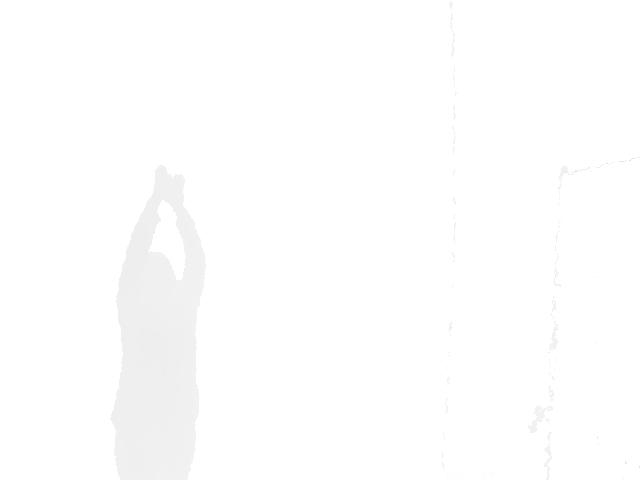hand: (151, 165, 171, 203), (166, 174, 186, 205)
head: (142, 252, 176, 300)
person: (108, 164, 208, 480)
